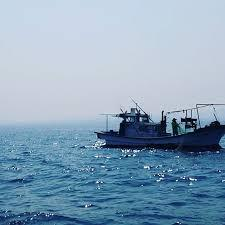Ship: (90, 97, 225, 155)
